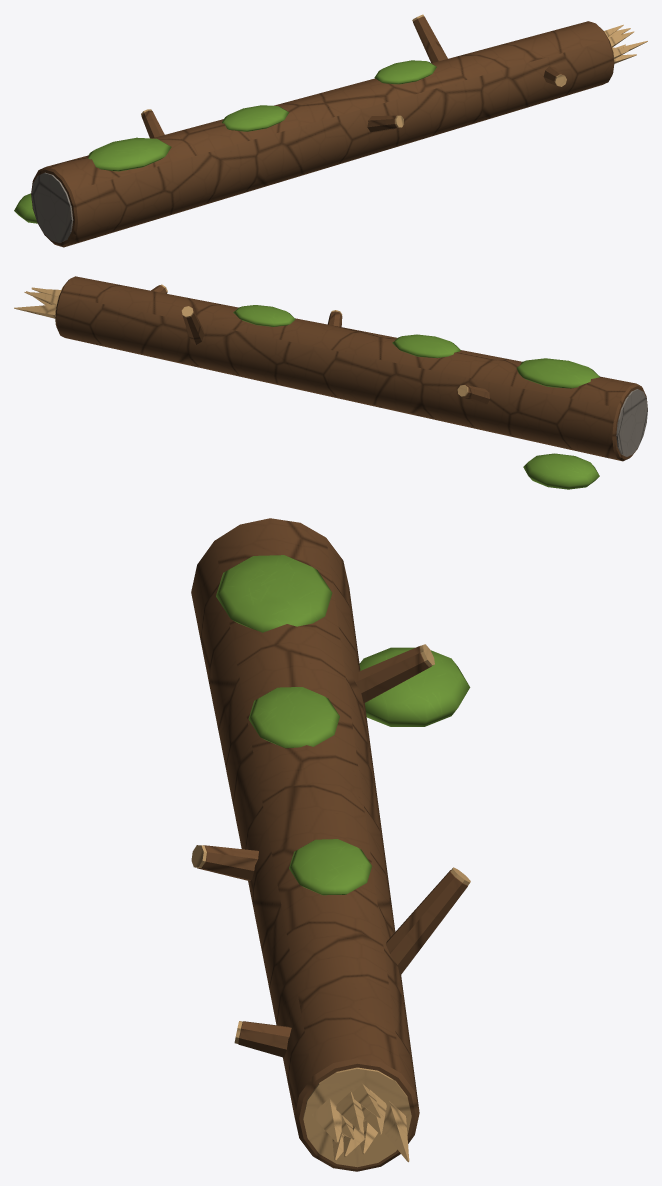
File: fallen_log.glb
The picture shows the model from 3 angles, top to bottom: view 1: azimuth 30°, elevation 25°; view 2: azimuth 150°, elevation 25°; view 3: azimuth 270°, elevation 25°; orthographic projection. The views are drawn at different scales.
Parts seen in each view (by area): view 1: fallen_log; view 2: fallen_log; view 3: fallen_log.
Part boxes in pixels (x1,y1,x2,y2): fallen_log: (14,14,647,247); fallen_log: (14,276,647,489); fallen_log: (191,518,470,1171).
Size of the model in its own units: 6.52 by 1.02 by 1.34.
Materials: 4 (4 with a texture image).
